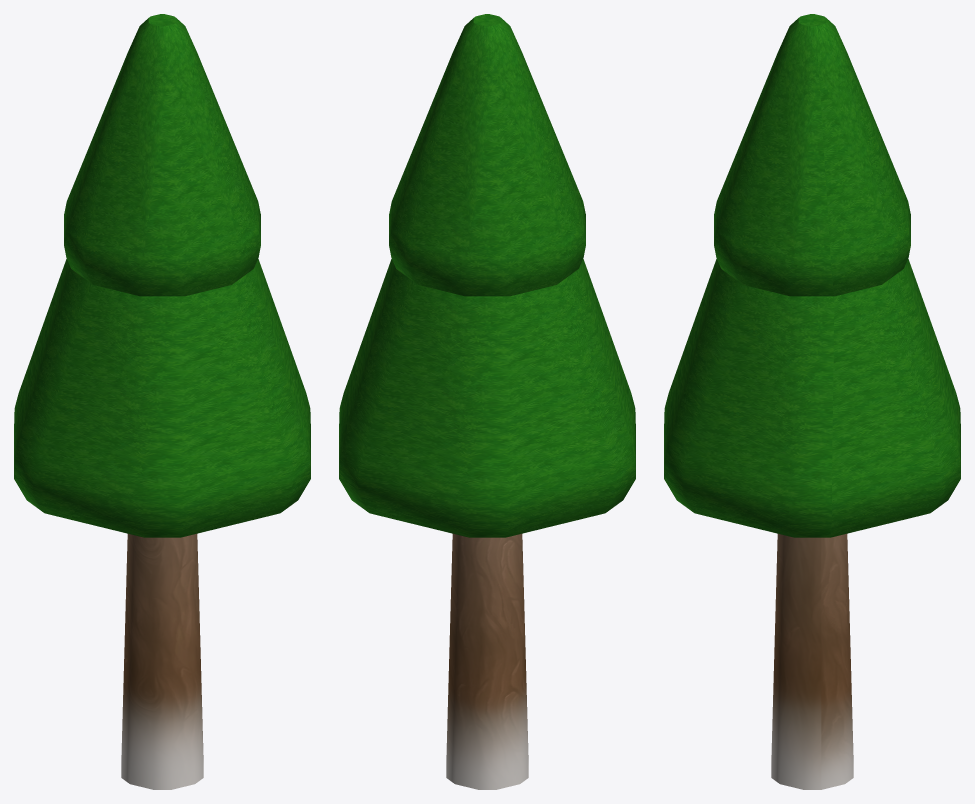
Rendered from Tree01_M.FBX.
3 views of the same model, side by side, from view 1: azimuth 30°, elevation 25°; view 2: azimuth 150°, elevation 25°; view 3: azimuth 270°, elevation 25° (orthographic).
Visible parts, largest first — view 1: Cylinder005; view 2: Cylinder005; view 3: Cylinder005.
Part boxes in pixels (x1,y1,x2,y2): Cylinder005: (14,14,310,789); Cylinder005: (339,14,635,789); Cylinder005: (664,14,960,789).
Bounding box in the file's own units: 86.31 × 223 × 79.96.
